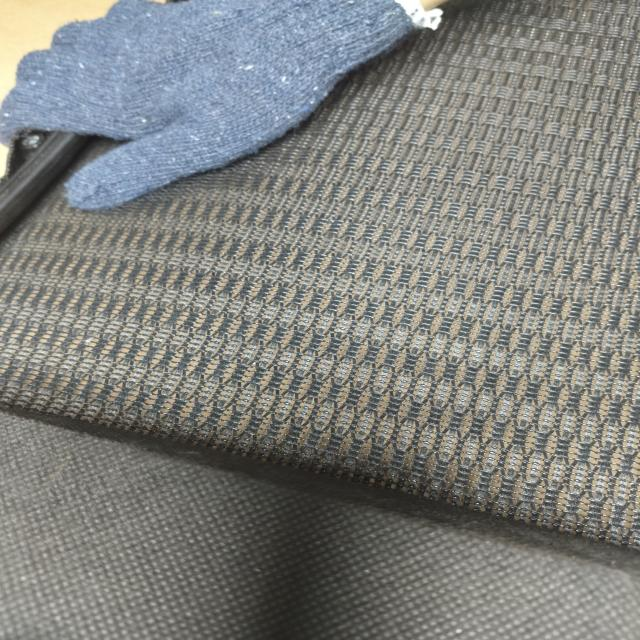Gloves-Detection: (6, 5, 404, 214)
